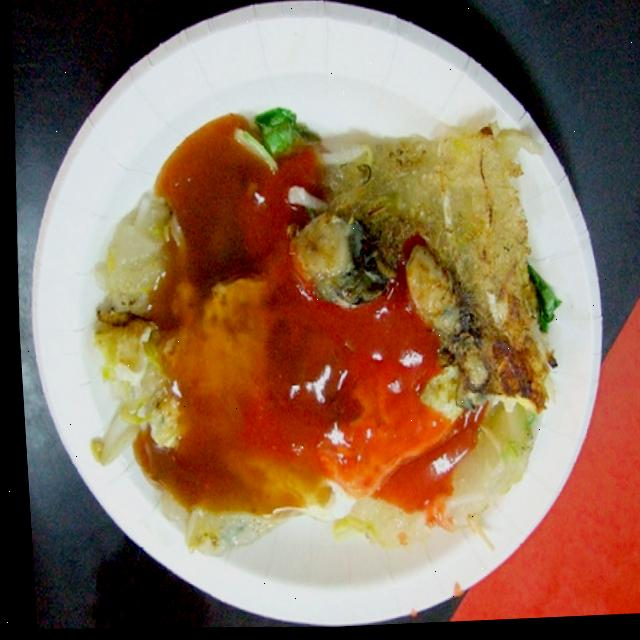熟制海鲜: (3, 2, 634, 640)
